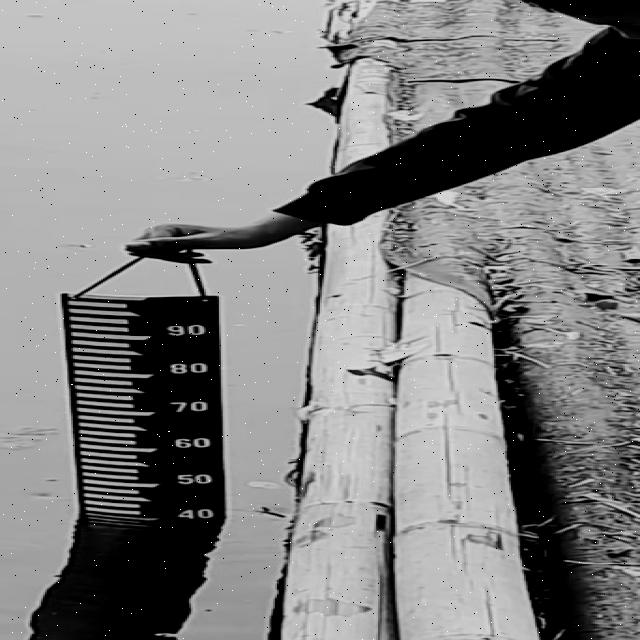40: (174, 507, 220, 521)
50: (174, 472, 214, 486)
60: (171, 435, 213, 450)
70: (167, 399, 212, 415)
80: (166, 360, 215, 377)
90: (164, 321, 208, 338)
staff: (55, 292, 232, 524)
